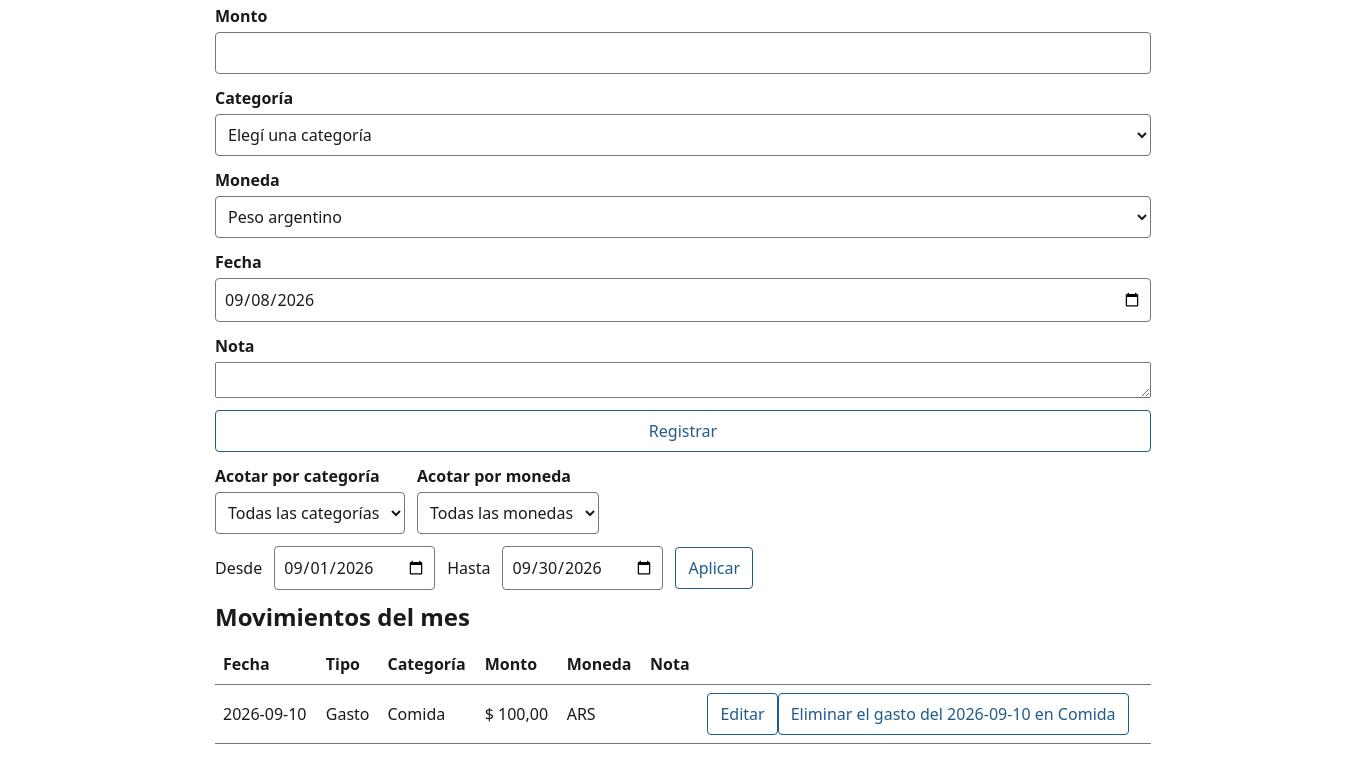
Test: NFR-005, D-06 · los tres se aplican juntos, con un solo botón › dos "Aplicar" seguidos: la primera respuesta no pisa a la segunda
The image size is (1366, 768).
(page scrolled)
Expected: the table named "movimientos del mes" is shown, [215,644,1151,744]
Select "Comida" in the dropdown labelled "Acotar por categoría" at (310, 513), box [215,492,405,534]
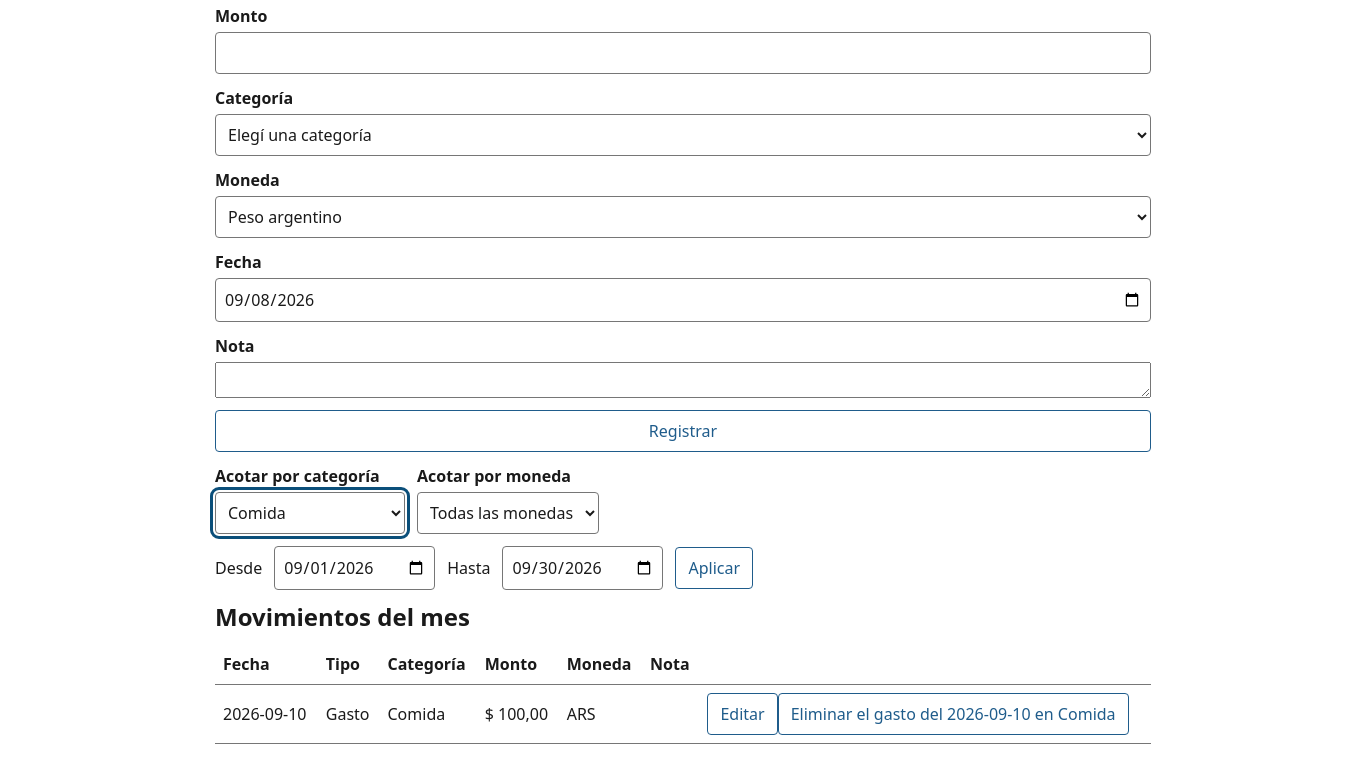
Click the button "Aplicar" at (714, 568), box [676,547,753,589]
(page scrolled)
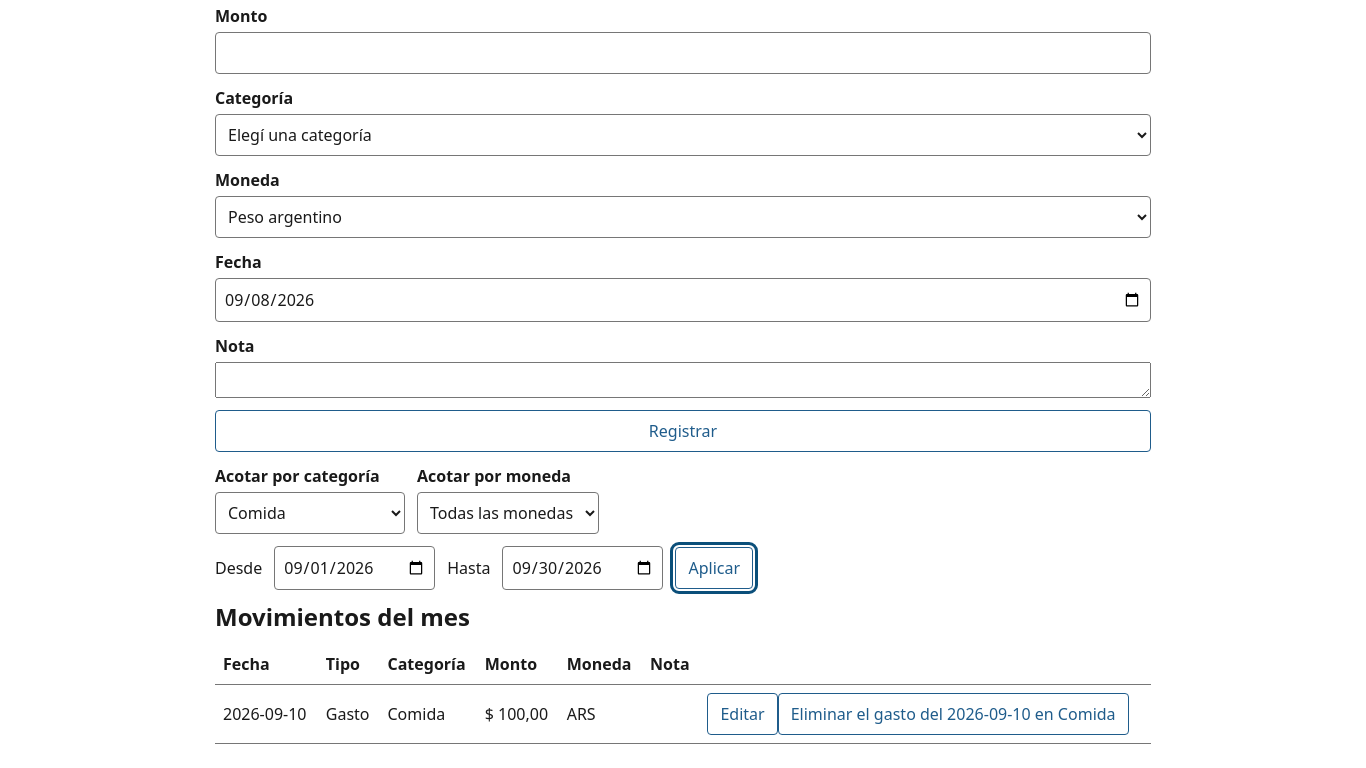
Select "Transporte" in the dropdown labelled "Acotar por categoría" at (310, 513), box [215,492,405,534]
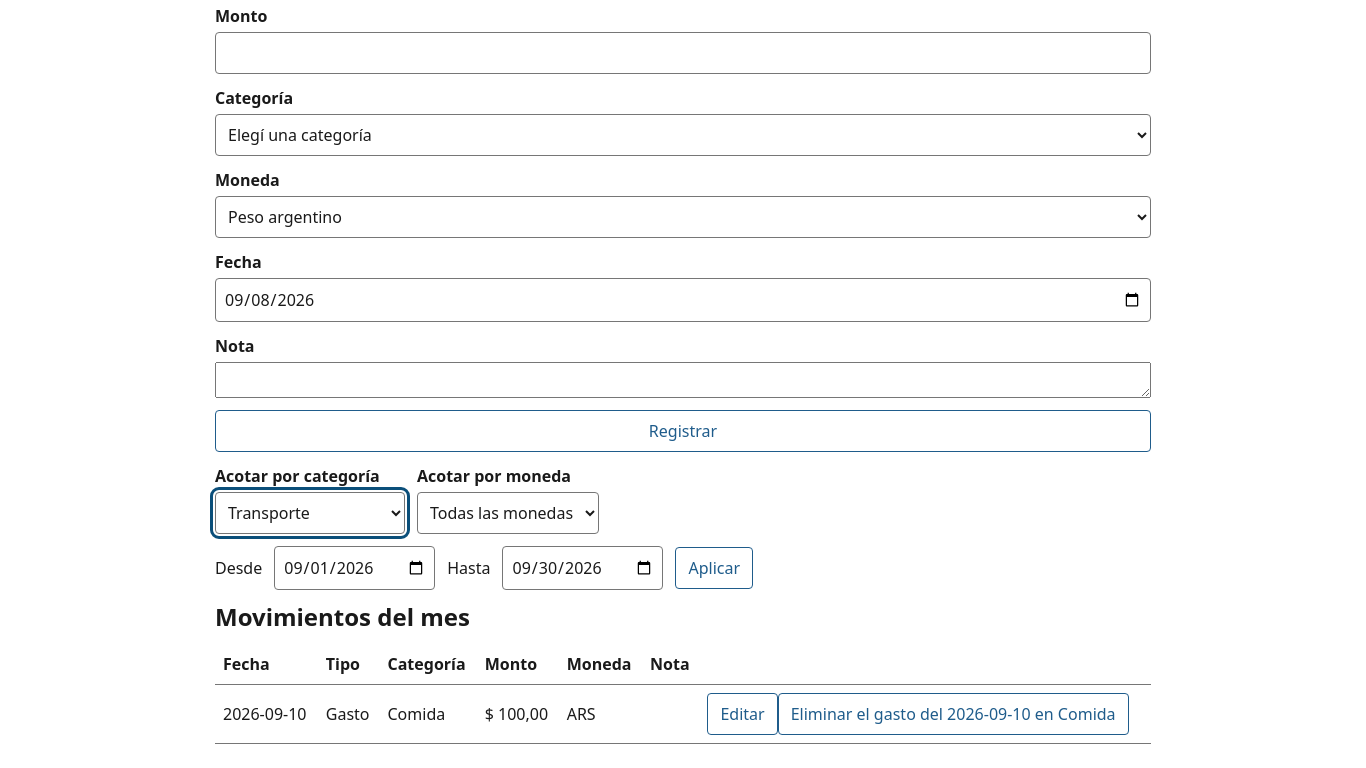
Click the button "Aplicar" at (714, 568), box [676,547,753,589]
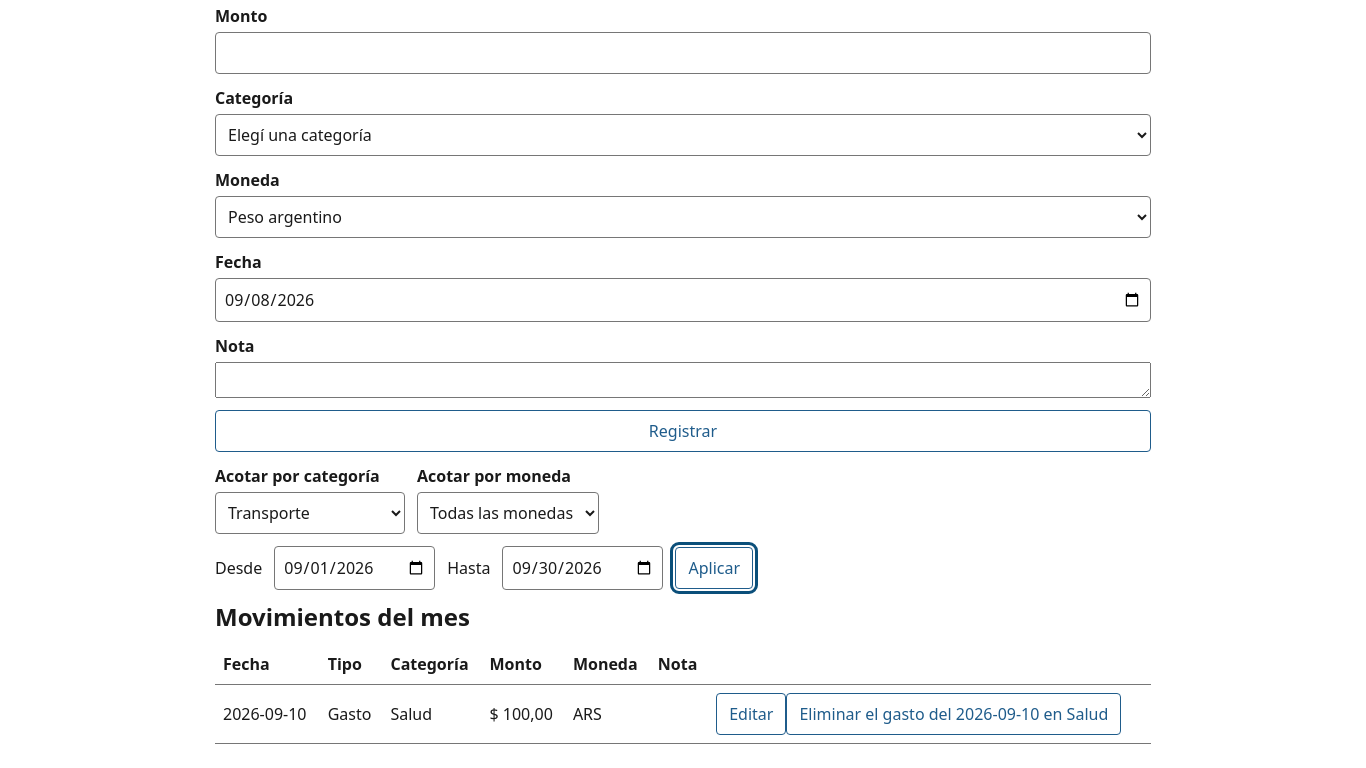
Result: the cell "Salud" is shown at [382,684,482,743]
